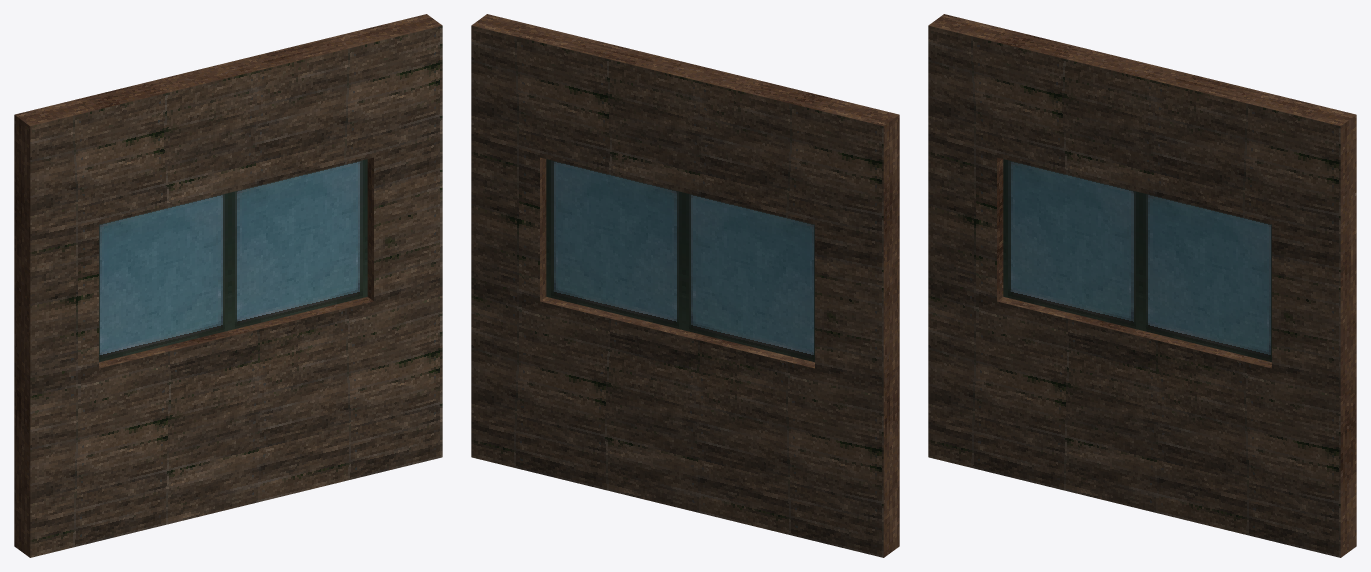
File: window_small_double_02.glb
3 renders of one model, left to right at view 1: azimuth 30°, elevation 25°; view 2: azimuth 150°, elevation 25°; view 3: azimuth 330°, elevation 25°, orthographic.
Visible parts, largest first — view 1: window_small_double_022, window_small_02_002, window_small_02_001; view 2: window_small_double_022, window_small_02_002, window_small_02_001; view 3: window_small_double_022, window_small_02_001, window_small_02_002.
Part boxes in pixels (x1,y1,x2,y2): window_small_double_022: (14,14,442,557); window_small_02_002: (230,159,367,330); window_small_02_001: (99,192,229,362); window_small_double_022: (471,14,899,557); window_small_02_002: (546,159,683,330); window_small_02_001: (684,192,814,362); window_small_double_022: (928,14,1356,557); window_small_02_001: (1003,159,1140,330); window_small_02_002: (1141,192,1271,362).
Size of the model in its own units: 3 by 3 by 0.2.
Materials: 3 (3 with a texture image).
